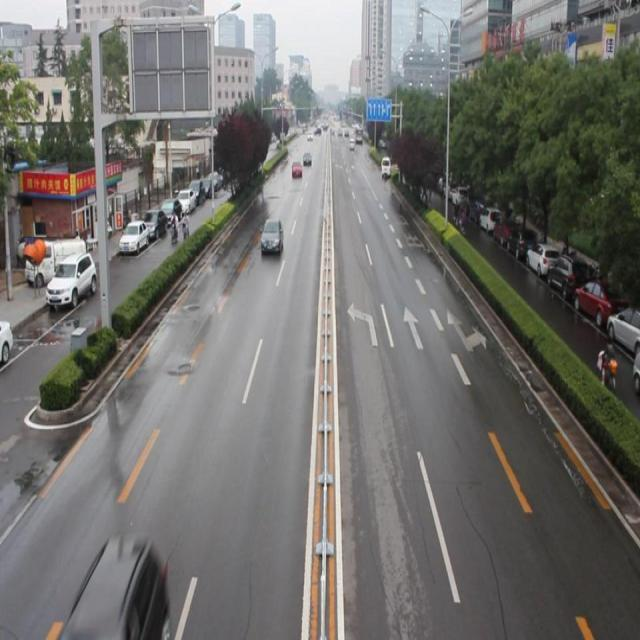car: (260, 218, 284, 255), (290, 160, 303, 178)
truck: (380, 153, 391, 180)
